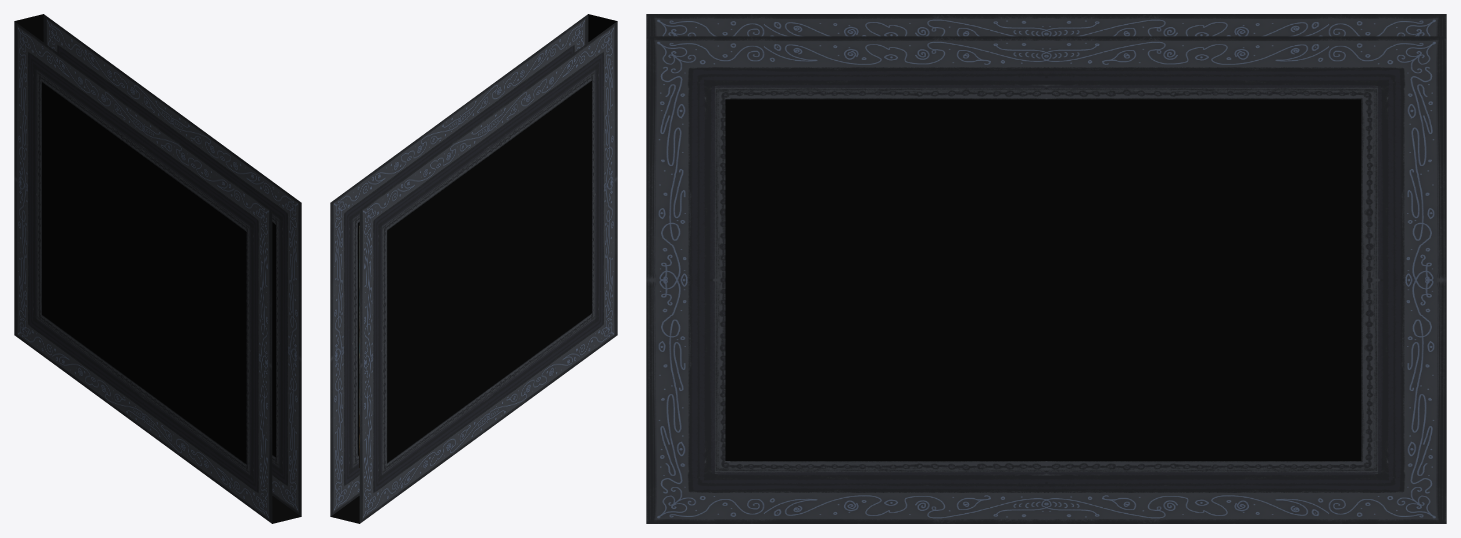
Rendered from AI_GOAT.glb.
3 views of the same model, side by side, from view 1: azimuth 30°, elevation 25°; view 2: azimuth 150°, elevation 25°; view 3: azimuth 270°, elevation 25° (orthographic). The views are drawn at different scales.
Visible parts, largest first — view 1: 2D_Bilderrahmen_dark; view 2: 2D_Bilderrahmen_dark; view 3: 2D_Bilderrahmen_dark.
Part boxes in pixels (left/top/right/bottom): 2D_Bilderrahmen_dark: left=14, top=14, right=301, bottom=523; 2D_Bilderrahmen_dark: left=330, top=14, right=617, bottom=523; 2D_Bilderrahmen_dark: left=646, top=14, right=1446, bottom=523.
Size of the model in its own units: 0.4417 by 4.53 by 6.74.
3 materials, 2 textured.
